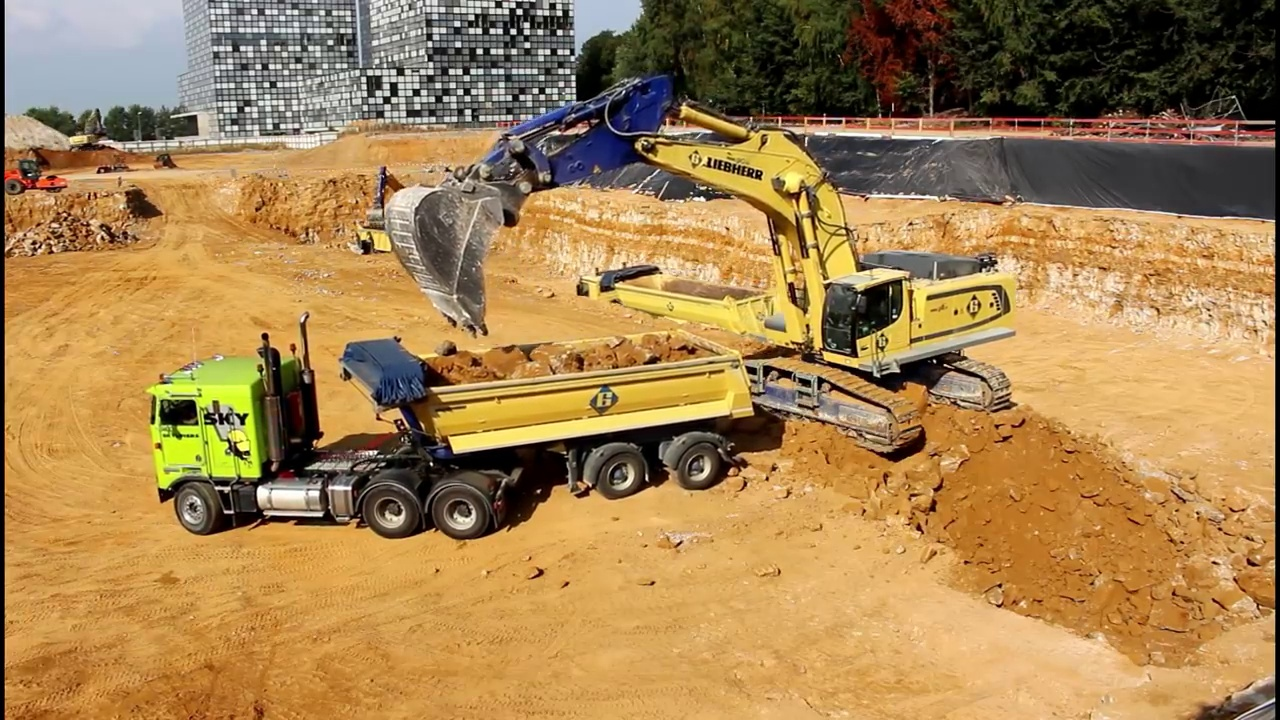compactor: (6, 158, 68, 198)
excavator: (385, 68, 1023, 459), (362, 168, 426, 240), (65, 103, 115, 159)
truck: (143, 310, 760, 544), (567, 259, 807, 381)
